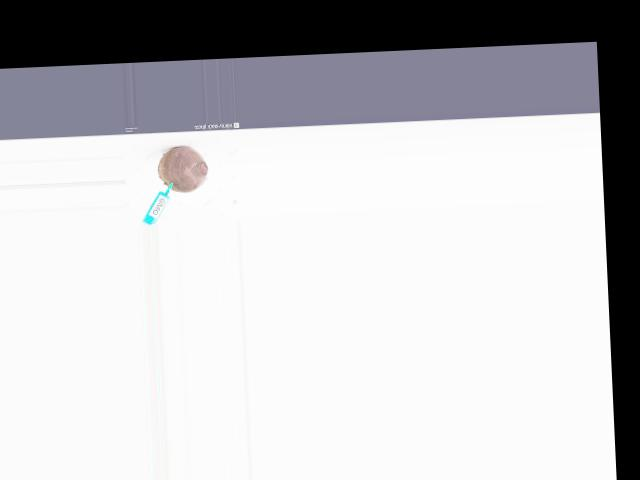beet: (157, 144, 208, 193)
